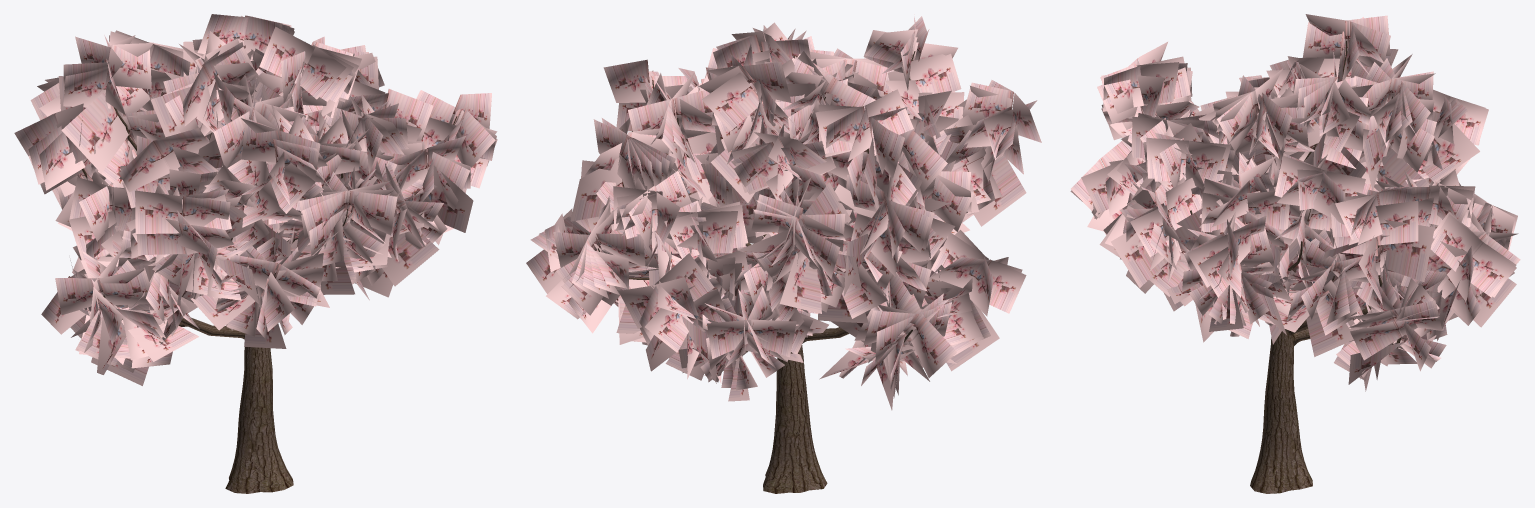
Rendered from cerezo_opt.glb.
3 views of the same model, side by side, from view 1: azimuth 30°, elevation 25°; view 2: azimuth 150°, elevation 25°; view 3: azimuth 270°, elevation 25° (orthographic). The views are drawn at different scales.
Parts seen in each view (by area): view 1: Object_10, Object_8; view 2: Object_10, Object_8; view 3: Object_10, Object_8.
Boxes of the visible parts, <box> form: Object_10: <box>14,14,497,385</box>; Object_8: <box>81,87,457,493</box>; Object_10: <box>526,14,1041,410</box>; Object_8: <box>598,51,927,493</box>; Object_10: <box>1070,14,1520,391</box>; Object_8: <box>1190,41,1401,493</box>.
Size of the model in its own units: 0.4036 by 0.4172 by 0.4016.
2 materials, 2 textured.
